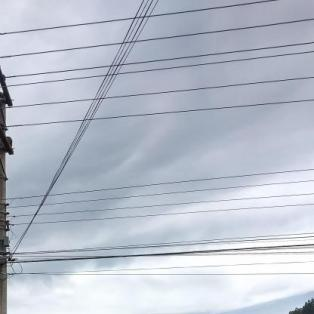Poste: (0, 92, 16, 314)
